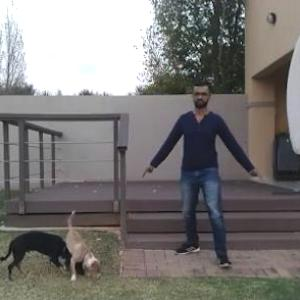land: (145, 82, 285, 274)
